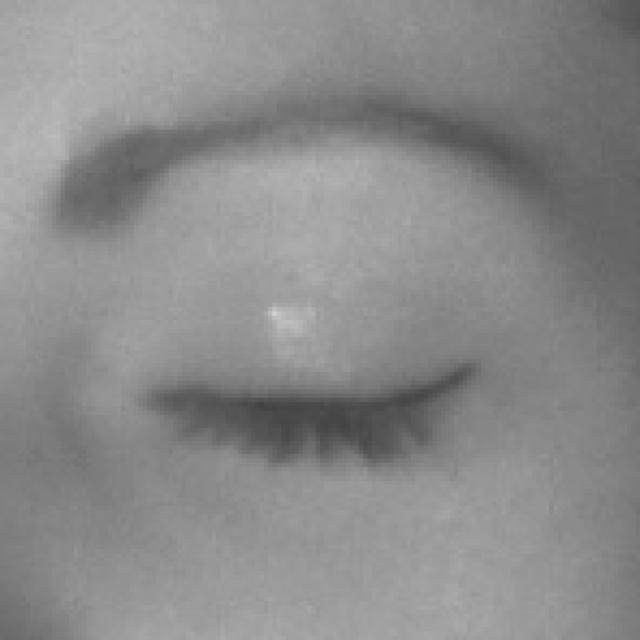close: (43, 70, 640, 526)
